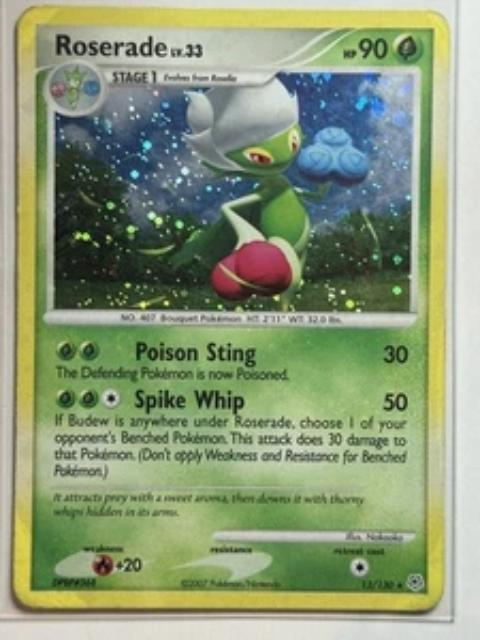Card: (9, 2, 455, 619)
Name: (51, 26, 170, 62)
